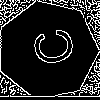C: (23, 25, 76, 70)
